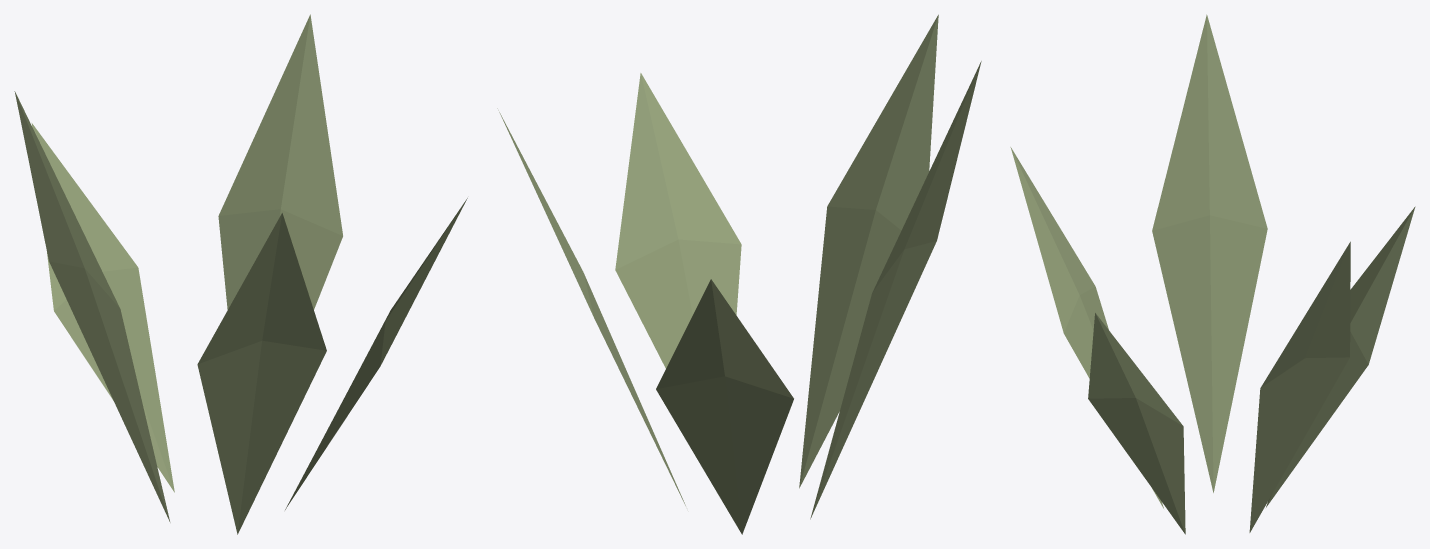
3 renders of one model, left to right at view 1: azimuth 30°, elevation 25°; view 2: azimuth 150°, elevation 25°; view 3: azimuth 270°, elevation 25°, orthographic. The views are drawn at different scales.
Parts seen in each view (by area): view 1: V03; view 2: V03; view 3: V03.
Part boxes in pixels (<box>): V03: <box>14,14,467,534</box>; V03: <box>497,14,981,534</box>; V03: <box>1010,14,1415,534</box>.
Bounding box in the file's own units: 0.4379 × 0.5106 × 0.4551.
